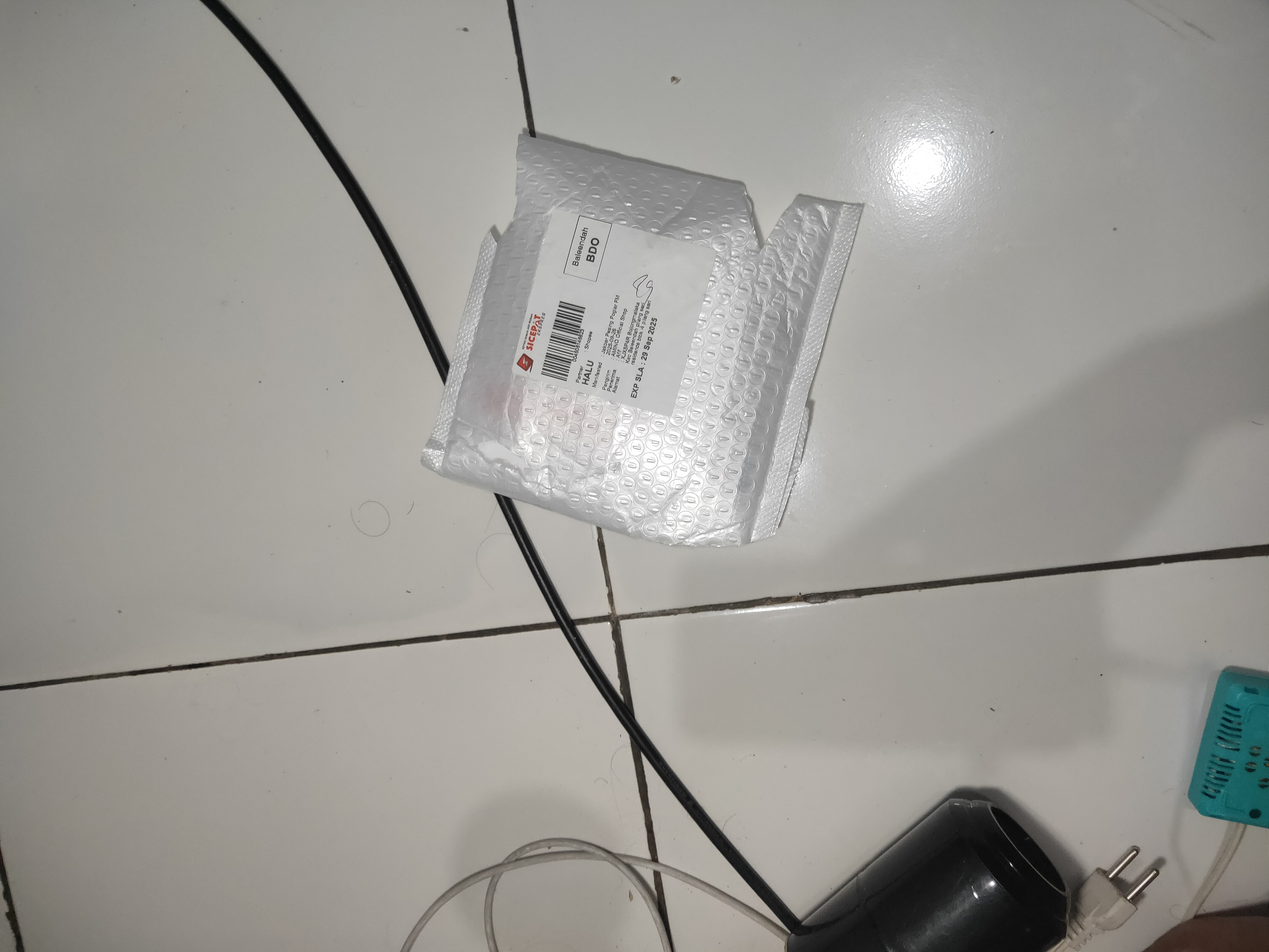damaged package: (741, 183, 801, 260), (488, 139, 518, 245)
undamaged: (423, 135, 866, 551)
